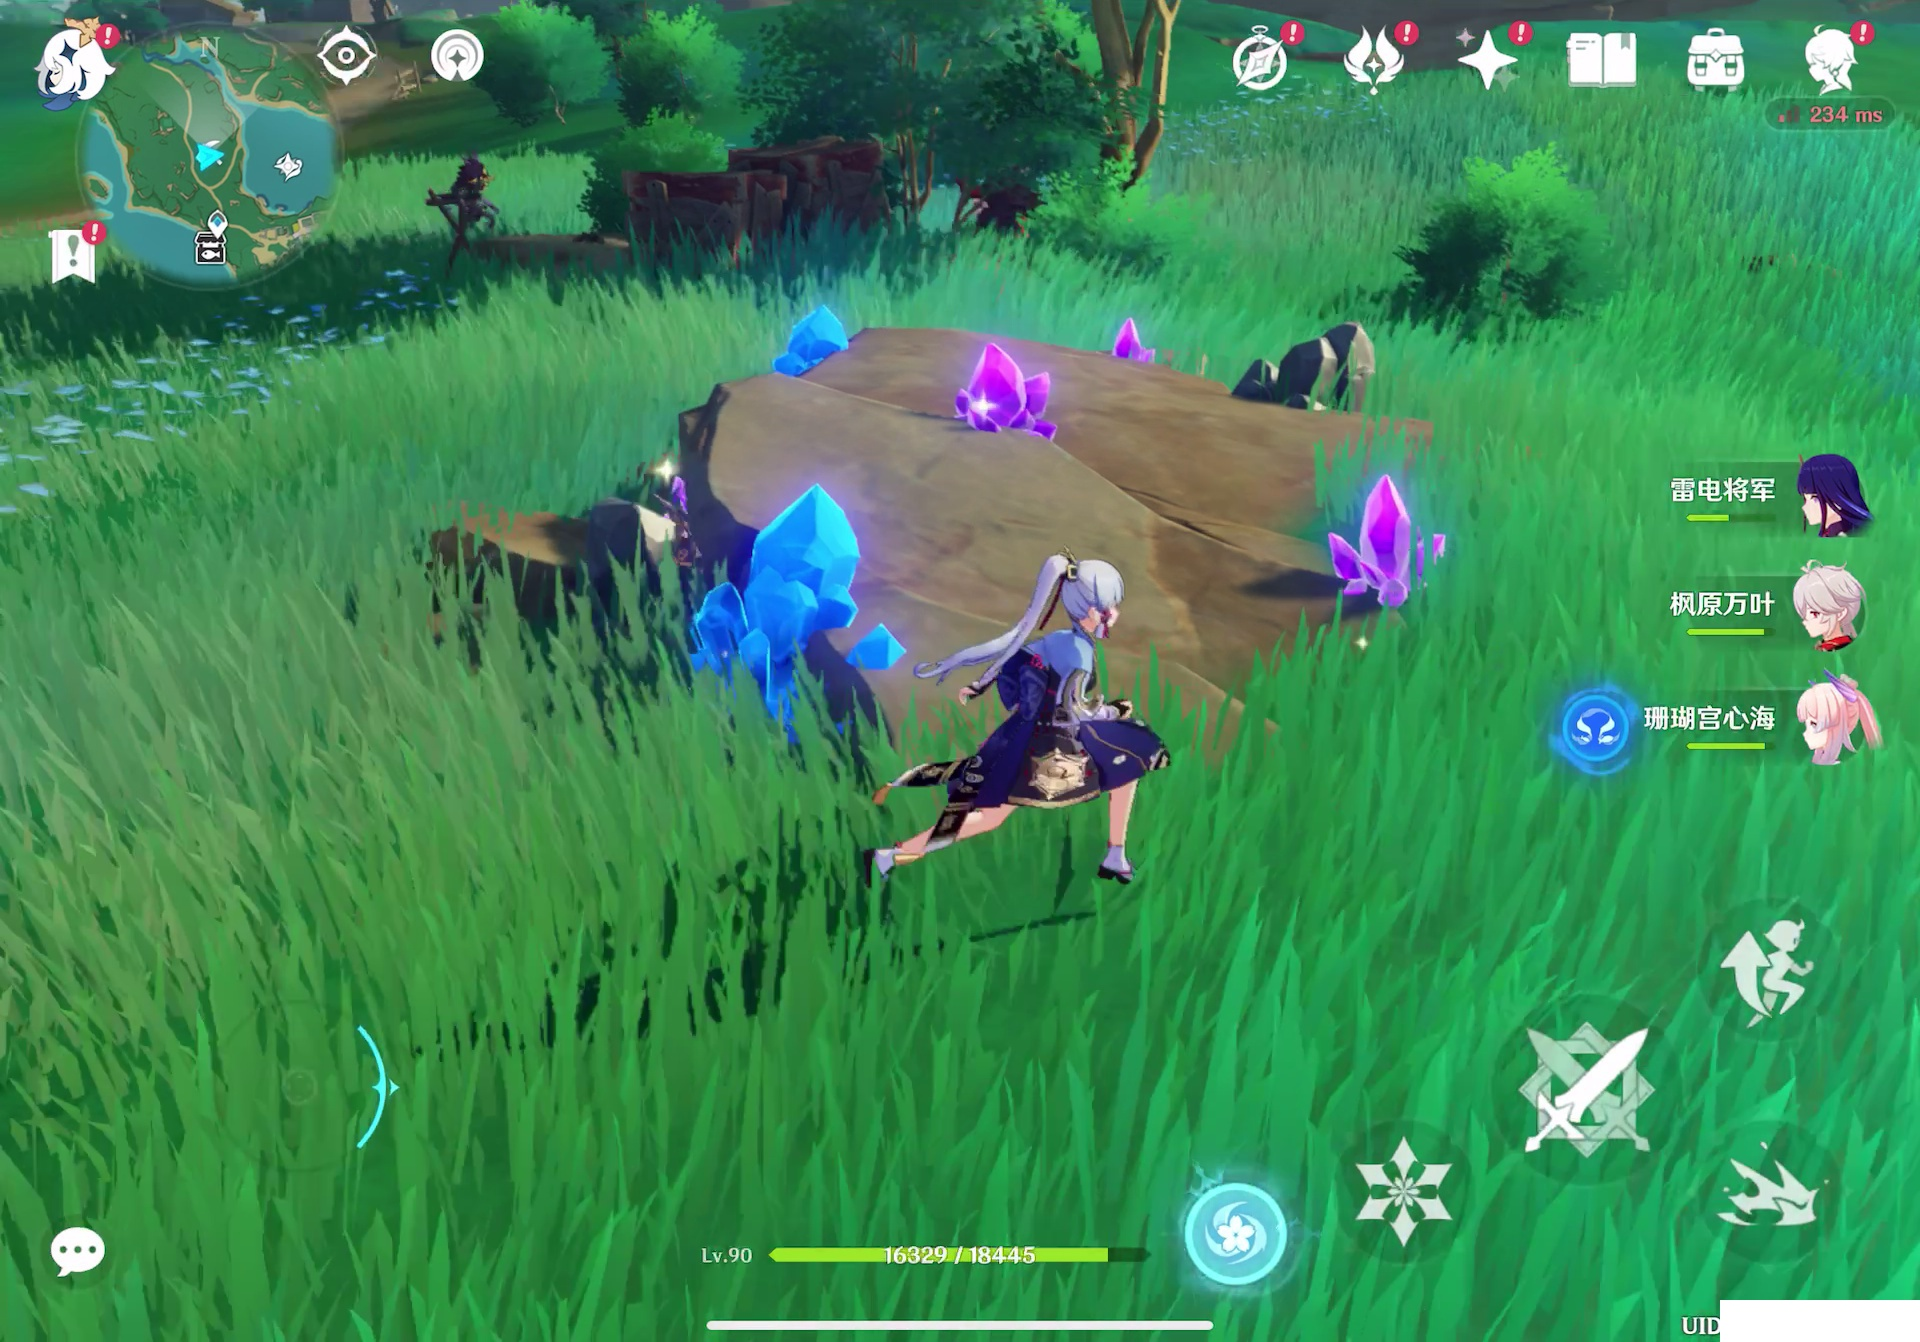白铁矿石: (559, 484, 678, 607), (1230, 315, 1387, 407)
神里绫龟: (905, 543, 1230, 934)
紫矿石: (1304, 465, 1468, 639), (942, 335, 1061, 438), (1106, 311, 1163, 369)
蓝矿石: (700, 490, 905, 707), (767, 300, 856, 366)
